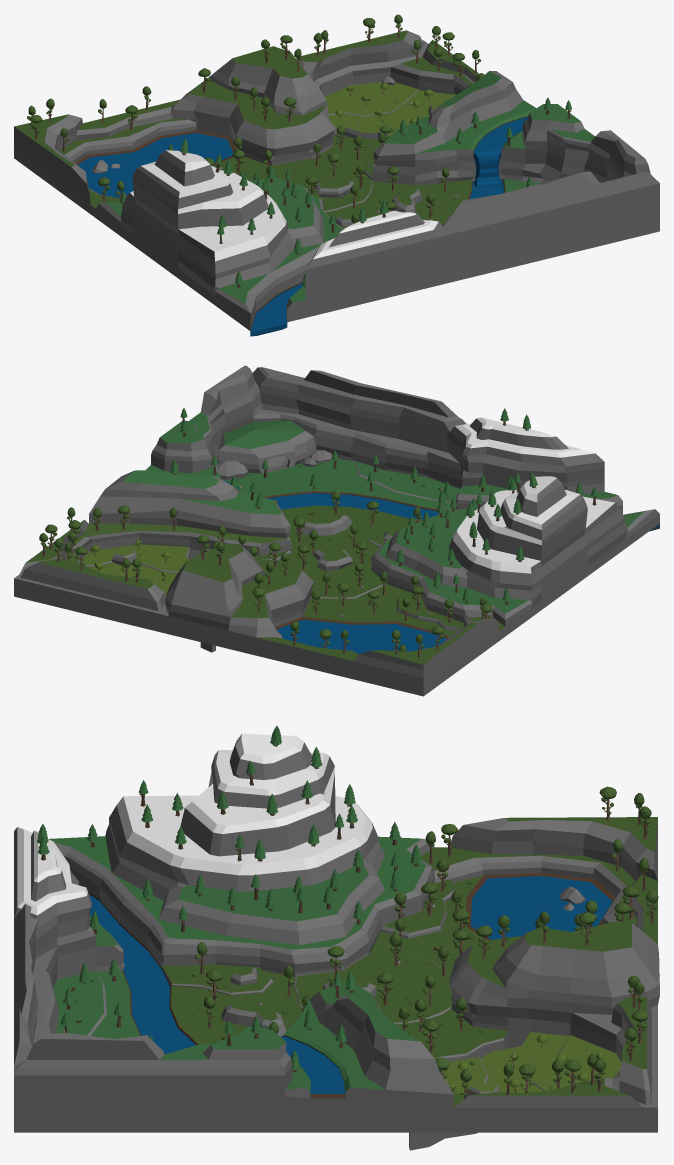
The model's file is Landscape.fbx.
3 renders of one model, top to bottom at view 1: azimuth 30°, elevation 25°; view 2: azimuth 150°, elevation 25°; view 3: azimuth 270°, elevation 25°, orthographic. The views are drawn at different scales.
Visible parts, largest first — view 1: Ground, Lake, River, Waterfall, UpperRiver; view 2: Ground, Cave, Lake, River; view 3: Ground, Lake, River, UpperRiver.
Part boxes in pixels (bbox=[...]): Ground: bbox=[14, 30, 659, 336]; Lake: bbox=[78, 133, 233, 197]; River: bbox=[250, 180, 503, 336]; Waterfall: bbox=[473, 150, 501, 187]; UpperRiver: bbox=[474, 117, 527, 151]; Ground: bbox=[14, 365, 659, 696]; Cave: bbox=[218, 420, 316, 473]; Lake: bbox=[276, 619, 446, 653]; River: bbox=[267, 493, 659, 531]; Ground: bbox=[14, 733, 659, 1150]; Lake: bbox=[470, 876, 612, 939]; River: bbox=[89, 894, 195, 1054]; UpperRiver: bbox=[282, 1036, 345, 1093].
Size of the model in its own units: 252 by 100 by 251.
